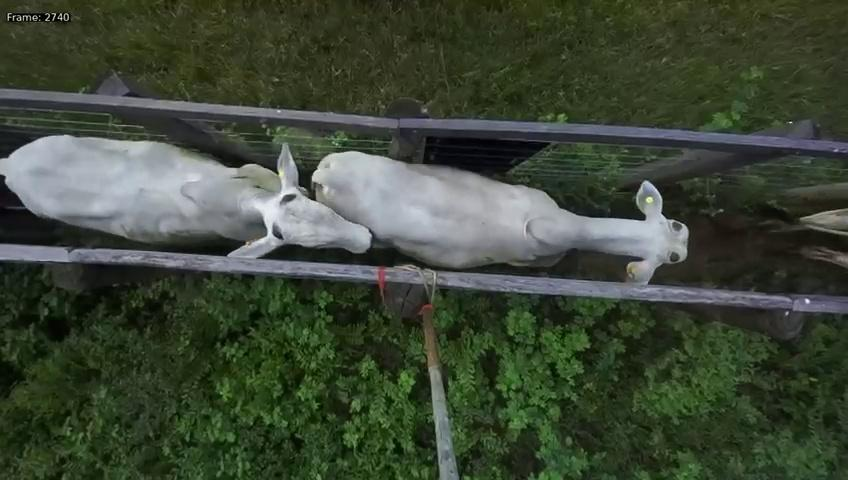cattle: (311, 121, 692, 284), (0, 129, 380, 268)
